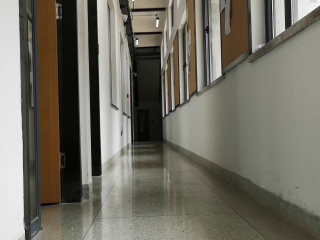room: (12, 1, 87, 239)
